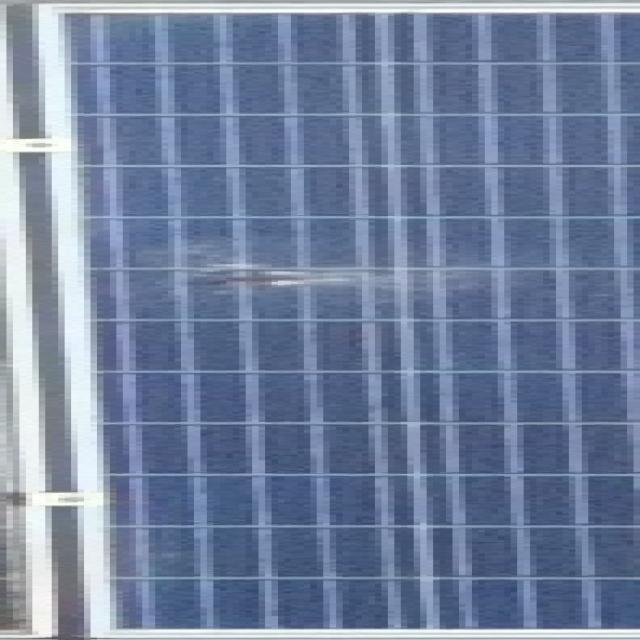bird-droppings: (154, 260, 456, 296)
